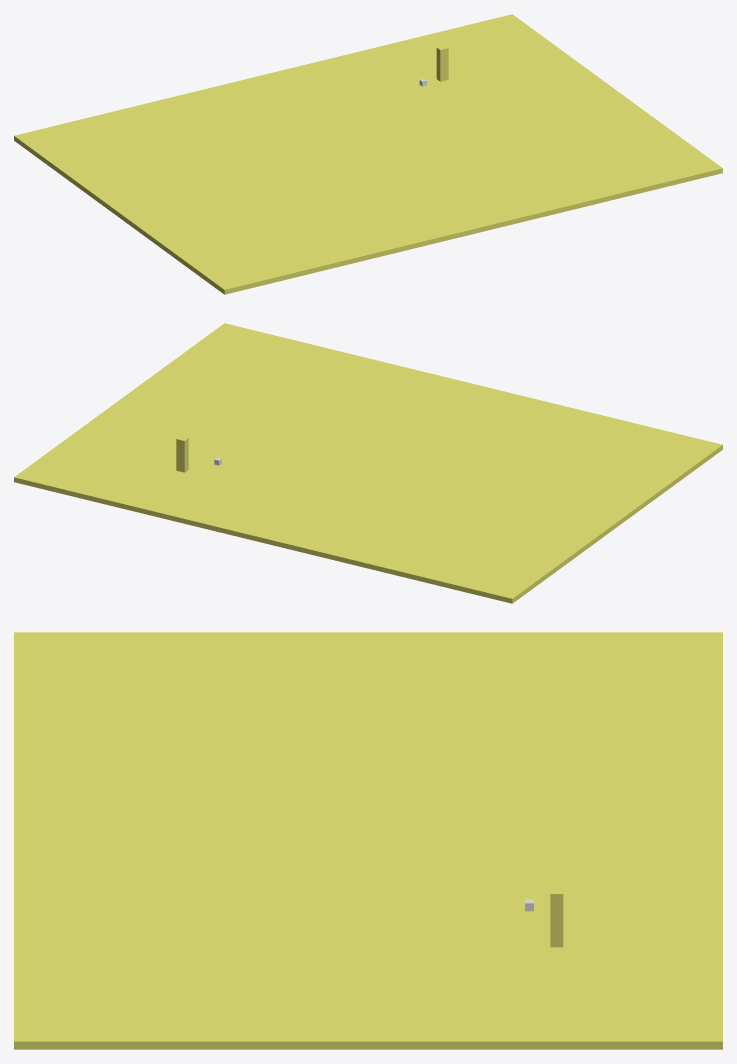
File: World.glb
3 renders of one model, top to bottom at view 1: azimuth 30°, elevation 25°; view 2: azimuth 150°, elevation 25°; view 3: azimuth 270°, elevation 25°, orthographic. The views are drawn at different scales.
Parts seen in each view (by area): view 1: Floor; view 2: Floor; view 3: Floor.
Part boxes in pixels (x1=…): Floor: x1=14, y1=14, x2=722, y2=294; Floor: x1=14, y1=323, x2=722, y2=603; Floor: x1=14, y1=632, x2=722, y2=1049.
Size of the model in its own units: 214 by 15 by 157.
